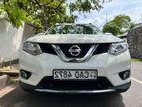car: (17, 22, 131, 98)
